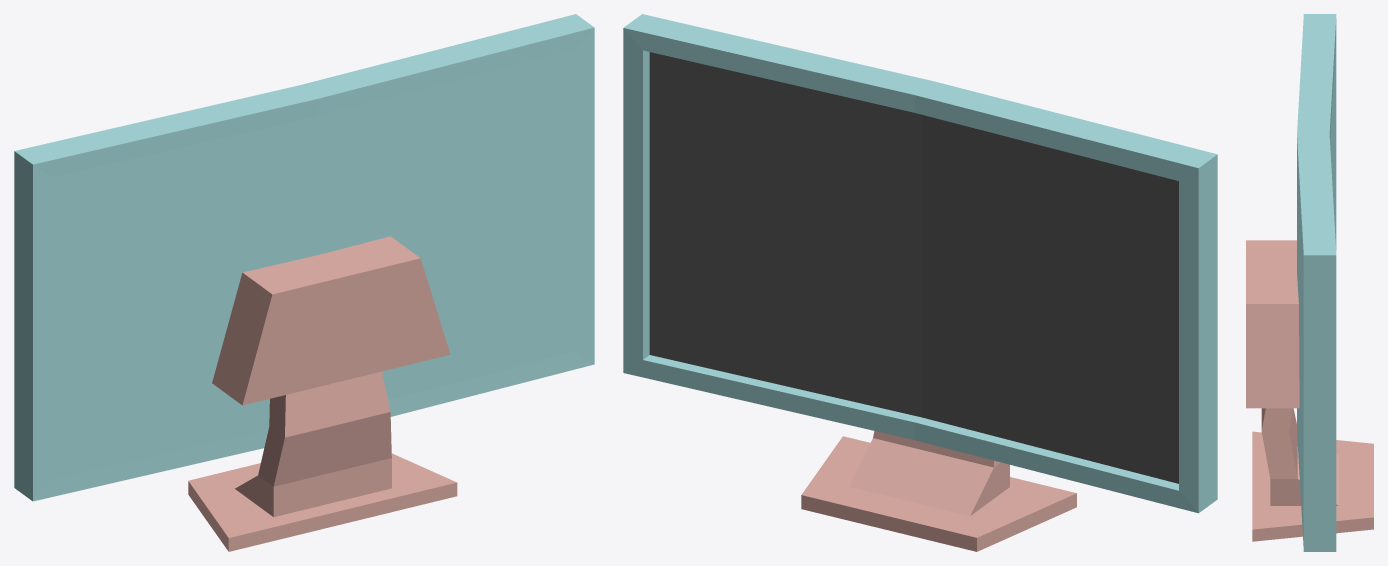
File: MesaPMonitorA (2).fbx
3 renders of one model, left to right at view 1: azimuth 30°, elevation 25°; view 2: azimuth 150°, elevation 25°; view 3: azimuth 270°, elevation 25°, orthographic. The views are drawn at different scales.
Visible parts, largest first — view 1: TelaPCA.001; view 2: TelaPCA.001; view 3: TelaPCA.001.
Boxes of the visible parts, left/top/right/bottom form: TelaPCA.001: left=14, top=14, right=594, bottom=551; TelaPCA.001: left=623, top=14, right=1217, bottom=551; TelaPCA.001: left=1246, top=14, right=1373, bottom=551.
Size of the model in its own units: 64.99 by 44.96 by 14.55.
